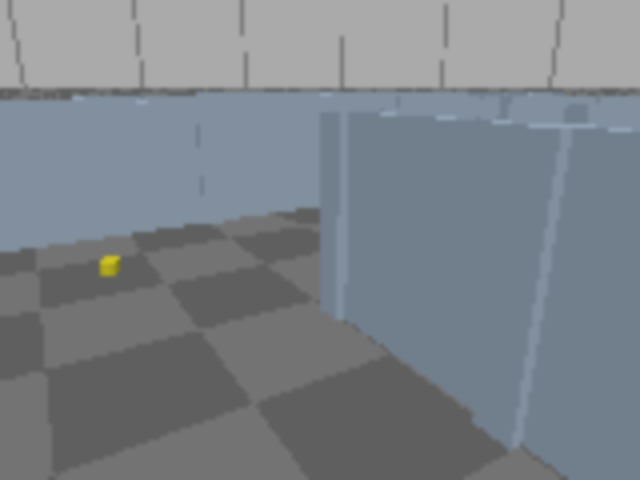puck: (100, 257, 121, 275)
